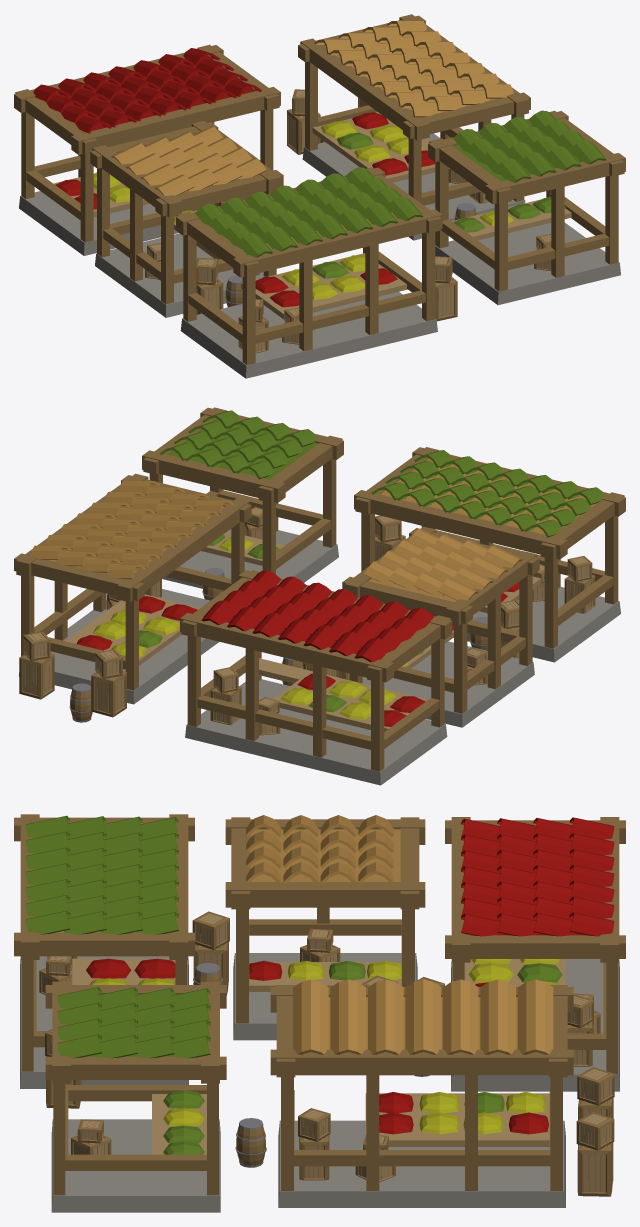
Rendered from Market_SecondAge_Level3.glb.
The picture shows the model from 3 angles, top to bottom: view 1: azimuth 30°, elevation 25°; view 2: azimuth 150°, elevation 25°; view 3: azimuth 270°, elevation 25°; orthographic projection. The views are drawn at different scales.
Parts seen in each view (by area): view 1: Market_SecondAge_Level3; view 2: Market_SecondAge_Level3; view 3: Market_SecondAge_Level3.
Boxes of the visible parts, x1=… form: Market_SecondAge_Level3: x1=14, y1=14, x2=625, y2=378; Market_SecondAge_Level3: x1=14, y1=407, x2=625, y2=785; Market_SecondAge_Level3: x1=14, y1=814, x2=625, y2=1212.
Size of the model in its own units: 1.93 by 0.6571 by 1.99.
1 material, 1 textured.
